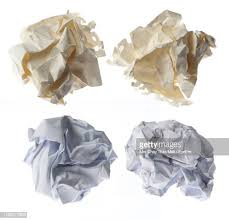crumpled paper: (117, 9, 210, 108), (8, 13, 109, 95), (25, 116, 117, 202), (128, 122, 212, 201)
